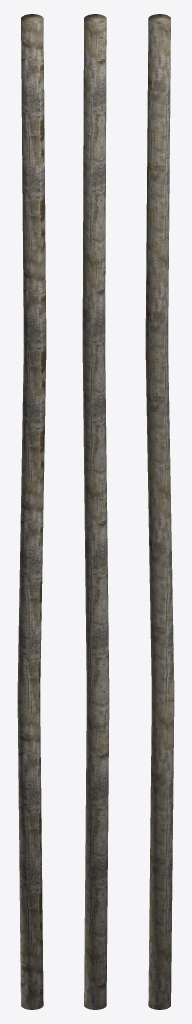
Rendered from pole.fbx.
The picture shows the model from 3 angles, left to right: view 1: azimuth 90°, elevation 25°; view 2: azimuth 210°, elevation 25°; view 3: azimuth 270°, elevation 25°; orthographic projection.
Visible parts, largest first — view 1: pole; view 2: pole; view 3: pole.
Part boxes in pixels (x1,y1,x2,y2): pole: [17, 14, 46, 1009]; pole: [82, 14, 109, 1009]; pole: [145, 14, 174, 1009].
Bounding box in the file's own units: 5.74 × 259 × 6.85.
